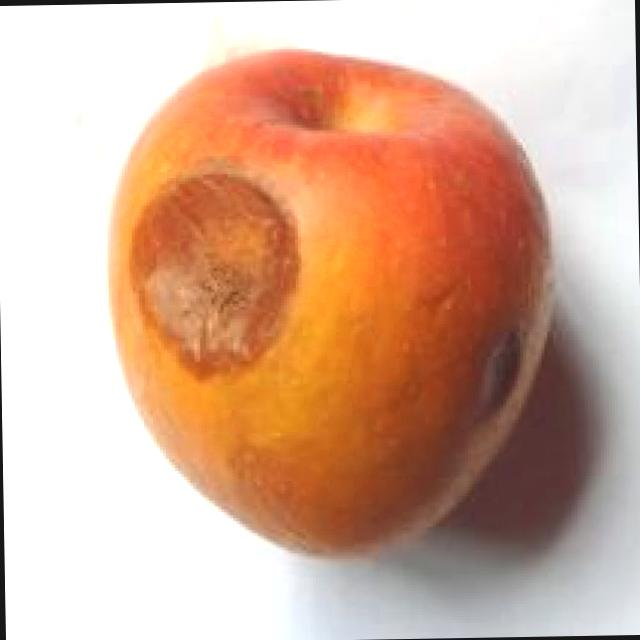rotten apple: (62, 22, 612, 620)
